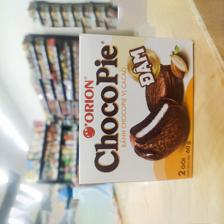Chocopie_cacao: (77, 32, 195, 183)
